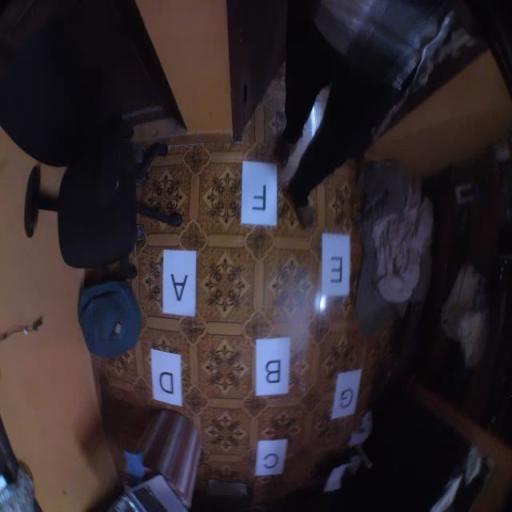A: (163, 248, 197, 318)
B: (256, 337, 290, 396)
C: (255, 438, 288, 476)
D: (150, 348, 182, 406)
E: (320, 232, 351, 296)
F: (240, 160, 278, 226)
G: (330, 369, 362, 419)
